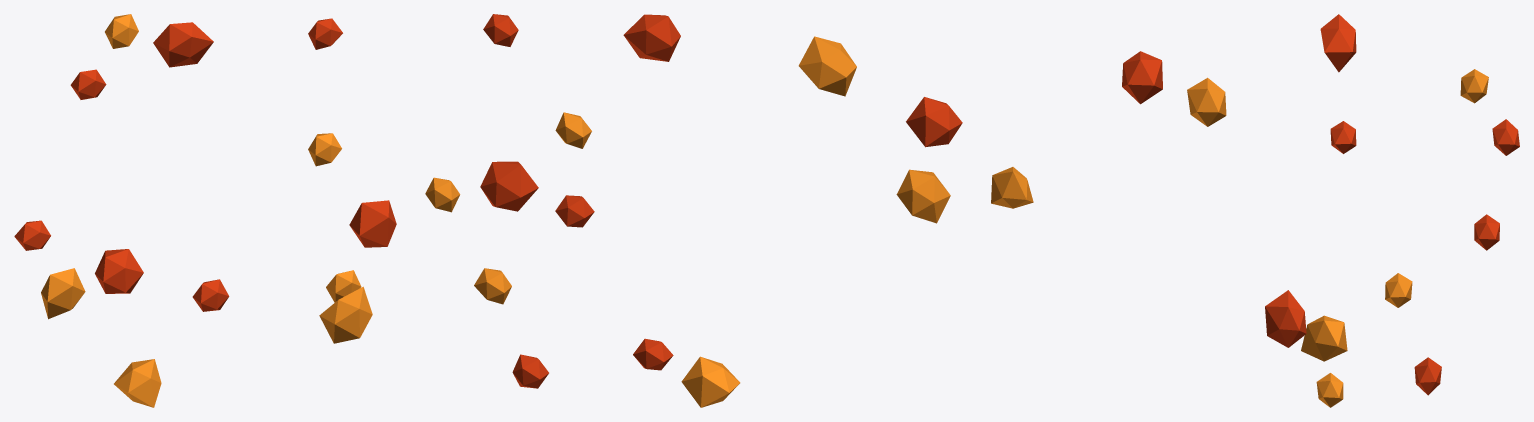
File: frame_10.glb
3 renders of one model, left to right at view 1: azimuth 30°, elevation 25°; view 2: azimuth 150°, elevation 25°; view 3: azimuth 270°, elevation 25°, orthographic. The views are drawn at different scales.
Parts seen in each view (by area): view 1: effect_explosion_small_frame_10; view 2: effect_explosion_small_frame_10; view 3: effect_explosion_small_frame_10.
Part boxes in pixels (left/top/right/bottom): effect_explosion_small_frame_10: left=14, top=14, right=396, bottom=407; effect_explosion_small_frame_10: left=425, top=14, right=962, bottom=407; effect_explosion_small_frame_10: left=991, top=14, right=1519, bottom=407.
Size of the model in its own units: 10.38 by 9.19 by 12.28.
